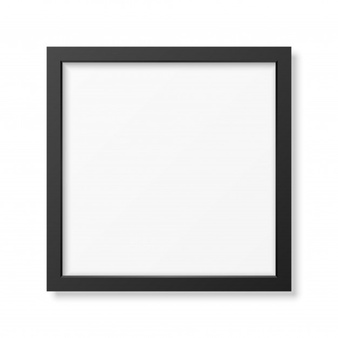cuadrado: (47, 46, 294, 291)
